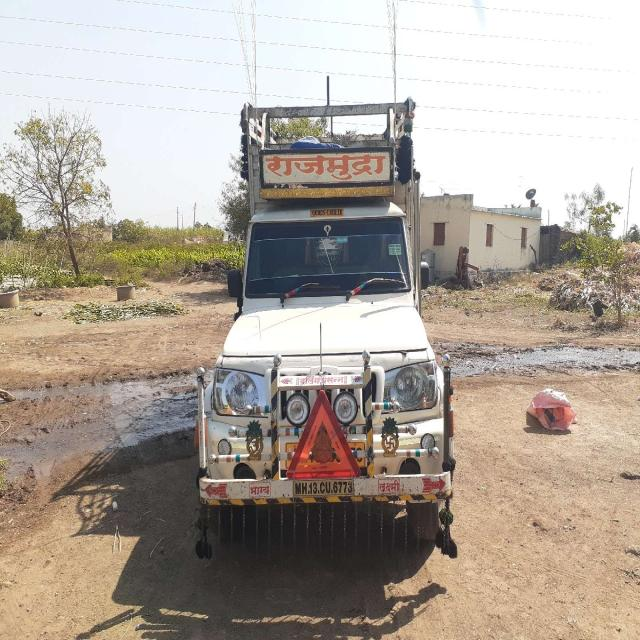light_vehicle: (201, 188, 453, 508)
